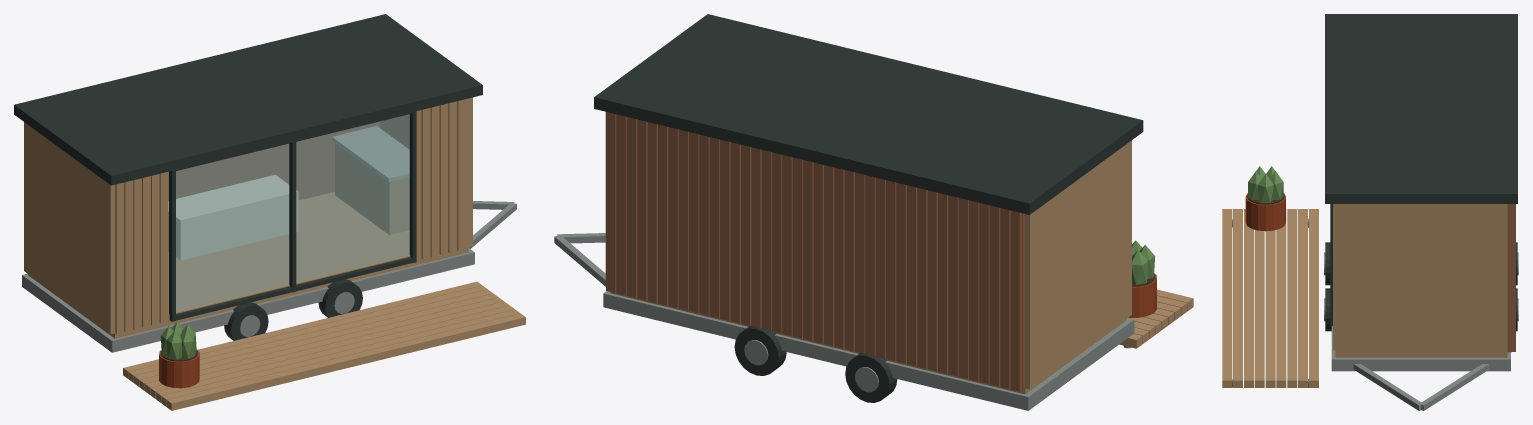
The model's file is panorama.glb.
The picture shows the model from 3 angles, left to right: view 1: azimuth 30°, elevation 25°; view 2: azimuth 150°, elevation 25°; view 3: azimuth 270°, elevation 25°; orthographic projection. The views are drawn at different scales.
Visible parts, largest first — view 1: panorama_Modrin, panorama_Antracit, panorama_Sklo, panorama_Len, panorama_Ocel, panorama_Cedr, panorama_Kamen, panorama_Corten, panorama_Zelen; view 2: panorama_Cedr, panorama_Antracit, panorama_Modrin, panorama_Ocel, panorama_Zelen, panorama_Corten; view 3: panorama_Modrin, panorama_Antracit, panorama_Ocel, panorama_Cedr, panorama_Corten, panorama_Zelen.
Boxes of the visible parts, x1,y1,x2,y2 form: panorama_Modrin: (24,97,525,410); panorama_Antracit: (14,14,482,340); panorama_Sklo: (176,114,409,311); panorama_Len: (168,175,298,260); panorama_Ocel: (22,201,516,352); panorama_Cedr: (168,121,380,200); panorama_Kamen: (332,126,409,181); panorama_Corten: (159,349,199,388); panorama_Zelen: (160,322,196,359); panorama_Cedr: (606,112,1025,391); panorama_Antracit: (594,14,1143,402); panorama_Modrin: (605,112,1193,394); panorama_Ocel: (554,233,1134,410); panorama_Zelen: (1132,240,1155,284); panorama_Corten: (1128,273,1156,317); panorama_Modrin: (1222,204,1507,387); panorama_Antracit: (1325,14,1517,331); panorama_Ocel: (1232,218,1518,410); panorama_Cedr: (1507,204,1515,352); panorama_Corten: (1245,193,1285,231); panorama_Zelen: (1248,166,1283,202).
Size of the model in its own units: 7.67 by 3.3 by 4.38.
